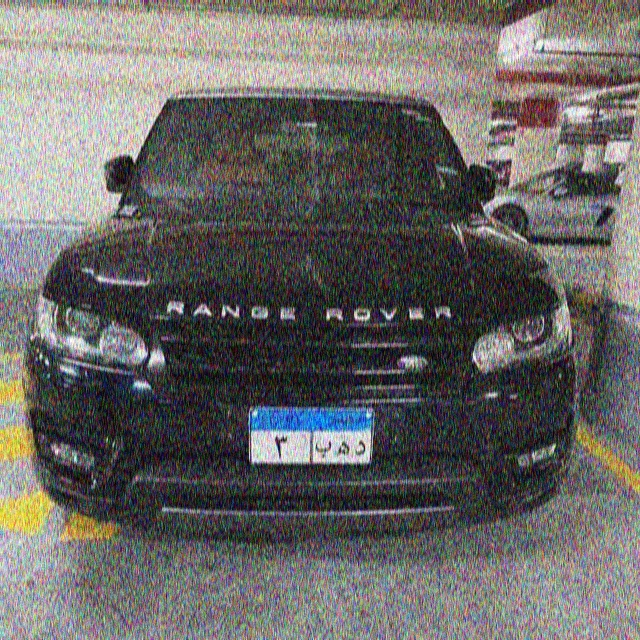License Plate: (245, 405, 375, 468)
